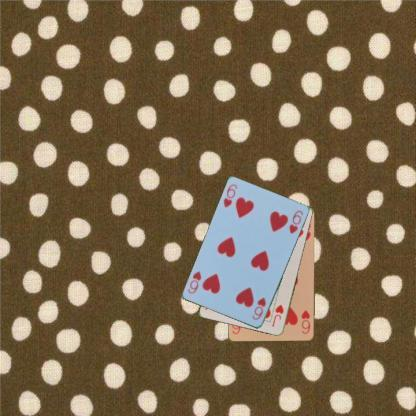6h: (220, 180, 238, 210), (249, 295, 268, 321), (299, 307, 311, 335)
Jh: (269, 302, 285, 328)
